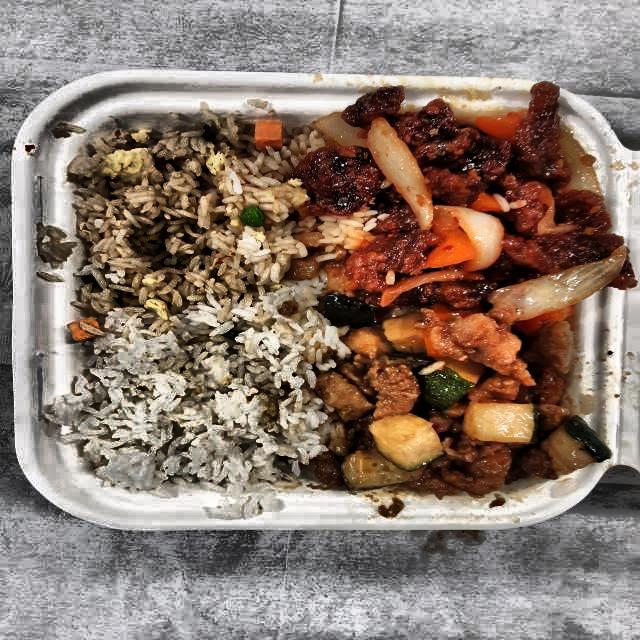Food: (304, 84, 622, 298), (314, 300, 596, 504), (65, 114, 302, 316), (62, 326, 318, 492)
